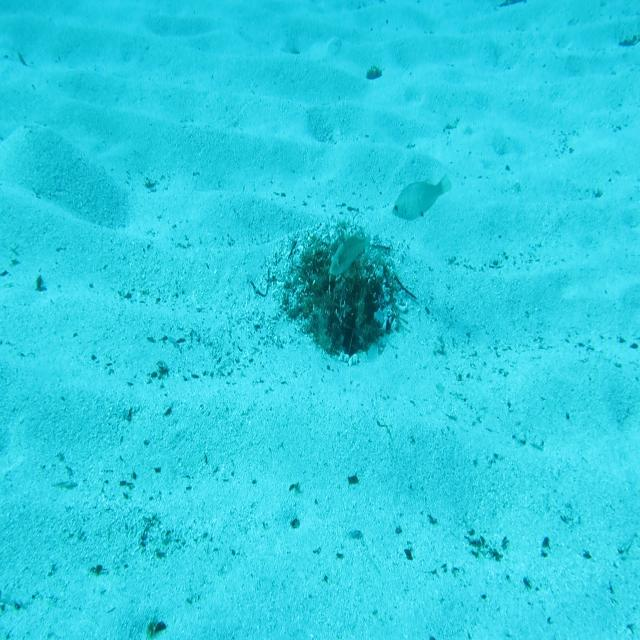BK_SW: (328, 229, 372, 280)
female: (392, 172, 454, 222)
nest: (288, 227, 413, 365)
